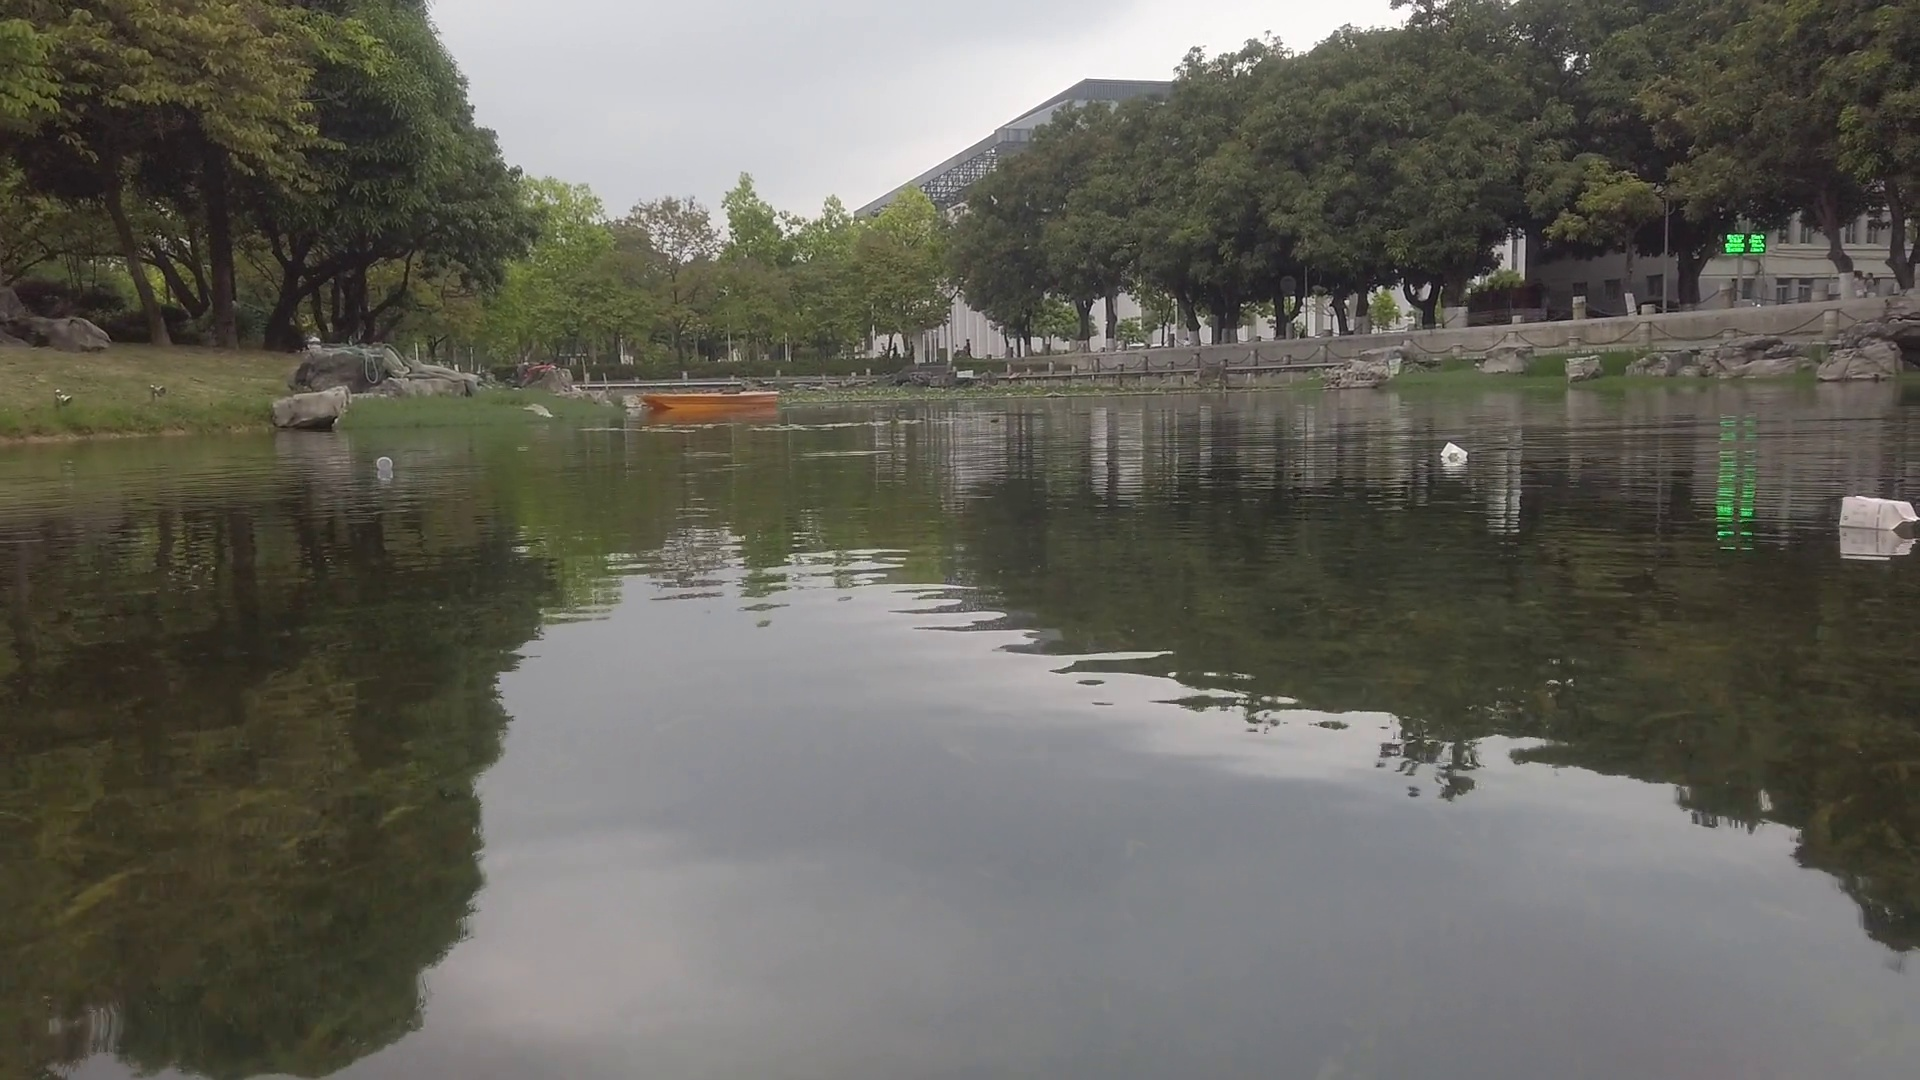bottle: (375, 455, 393, 472)
carton: (1837, 492, 1916, 539), (1437, 442, 1470, 469)
